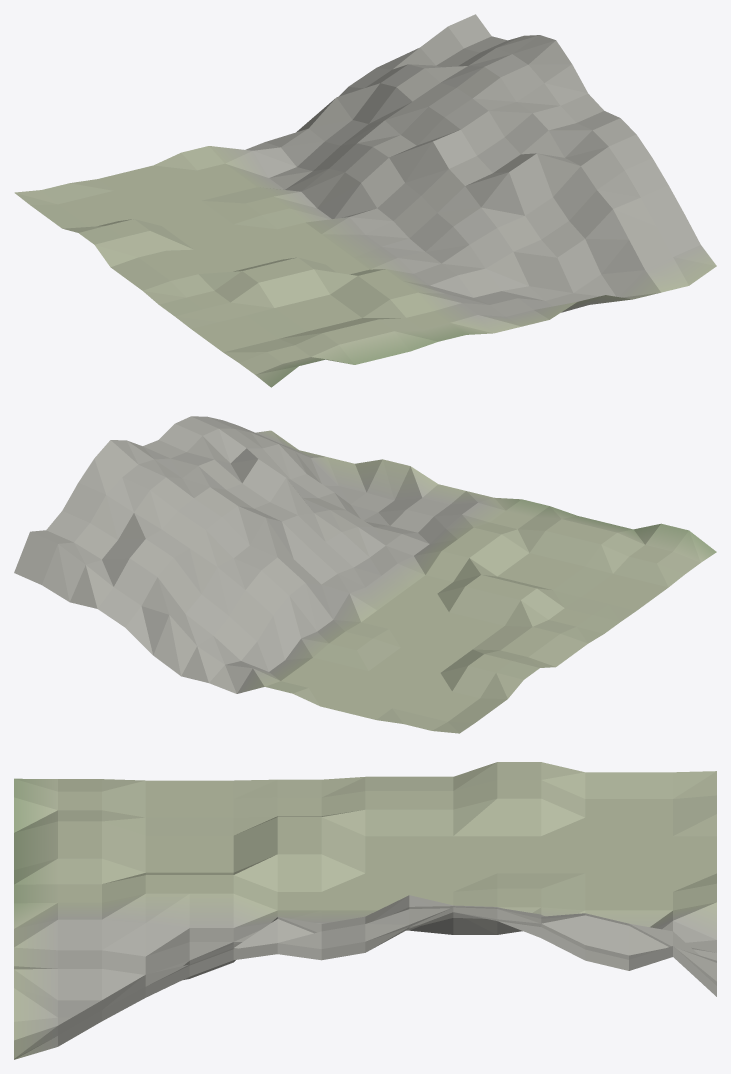
3 renders of one model, top to bottom at view 1: azimuth 30°, elevation 25°; view 2: azimuth 150°, elevation 25°; view 3: azimuth 270°, elevation 25°, orthographic. The views are drawn at different scales.
Bounding box in the file's own units: 32 × 9.09 × 32.
